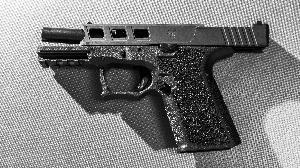handgun: (31, 15, 275, 159)
